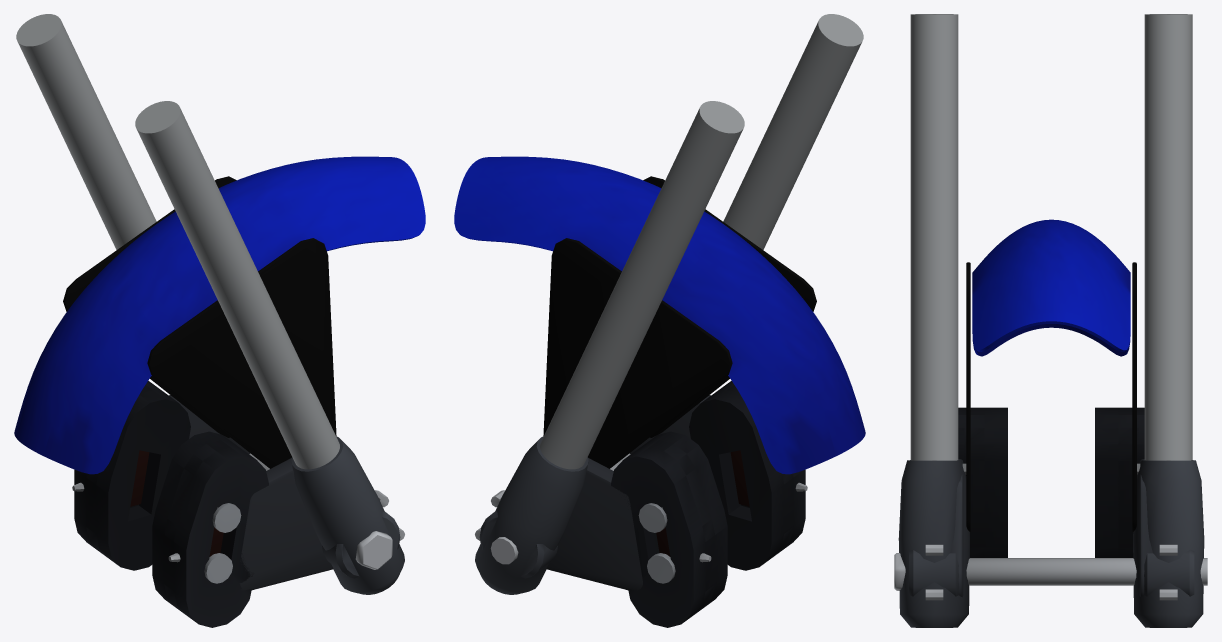
The model's file is bike_corsa600_fork.glb.
3 views of the same model, side by side, from view 1: azimuth 30°, elevation 25°; view 2: azimuth 150°, elevation 25°; view 3: azimuth 270°, elevation 25° (orthographic).
Parts seen in each view (by area): view 1: sbc_fender, sbc_forkS1, sbc_fenderstay1, sbc_forkS-1, sbc_caliper1_0.019, sbc_caliper-1_-0.019, sbc_forkfoot1, sbc_callug1, sbc_caliper1_-0.019, sbc_calbridge1, sbc_fenderstay-1, sbc_calpist1 (+5 smaller); view 2: sbc_fender, sbc_forkS-1, sbc_fenderstay-1, sbc_forkS1, sbc_caliper-1_0.019, sbc_caliper1_-0.019, sbc_forkfoot-1, sbc_callug-1, sbc_caliper-1_-0.019, sbc_calbridge-1, sbc_fenderstay1, sbc_calpist-1 (+5 smaller); view 3: sbc_forkS-1, sbc_forkS1, sbc_fender, sbc_forkfoot-1, sbc_forkfoot1, sbc_axleF, sbc_caliper-1_-0.019, sbc_caliper1_-0.019, sbc_calbridge1, sbc_calbridge-1, sbc_axleboss-1, sbc_axleboss1 (+6 smaller).
Part boxes in pixels (bbox=[...]): sbc_fender: bbox=[14, 156, 425, 474]; sbc_forkS1: bbox=[135, 101, 339, 469]; sbc_fenderstay1: bbox=[147, 238, 336, 468]; sbc_forkS-1: bbox=[16, 14, 156, 249]; sbc_caliper1_0.019: bbox=[174, 447, 268, 627]; sbc_caliper-1_-0.019: bbox=[96, 390, 190, 570]; sbc_forkfoot1: bbox=[291, 436, 404, 594]; sbc_callug1: bbox=[239, 458, 333, 590]; sbc_caliper1_-0.019: bbox=[152, 431, 233, 607]; sbc_calbridge1: bbox=[164, 440, 243, 614]; sbc_fenderstay-1: bbox=[63, 176, 236, 437]; sbc_calpist1: bbox=[204, 503, 241, 583]; sbc_fender: bbox=[454, 156, 865, 474]; sbc_forkS-1: bbox=[540, 101, 744, 469]; sbc_fenderstay-1: bbox=[543, 238, 732, 468]; sbc_forkS1: bbox=[723, 14, 863, 249]; sbc_caliper-1_0.019: bbox=[611, 447, 705, 627]; sbc_caliper1_-0.019: bbox=[689, 390, 784, 570]; sbc_forkfoot-1: bbox=[475, 436, 588, 594]; sbc_callug-1: bbox=[546, 458, 642, 590]; sbc_caliper-1_-0.019: bbox=[646, 431, 727, 607]; sbc_calbridge-1: bbox=[636, 440, 715, 614]; sbc_fenderstay1: bbox=[643, 176, 816, 437]; sbc_calpist-1: bbox=[638, 503, 675, 583]; sbc_forkS-1: bbox=[1144, 14, 1192, 460]; sbc_forkS1: bbox=[910, 14, 958, 460]; sbc_fender: bbox=[972, 219, 1130, 356]; sbc_forkfoot-1: bbox=[1133, 460, 1204, 627]; sbc_forkfoot1: bbox=[898, 460, 969, 627]; sbc_axleF: bbox=[966, 558, 1207, 585]; sbc_caliper-1_-0.019: bbox=[1095, 407, 1119, 557]; sbc_caliper1_-0.019: bbox=[983, 407, 1007, 557]; sbc_calbridge1: bbox=[964, 407, 984, 557]; sbc_calbridge-1: bbox=[1118, 407, 1138, 557]; sbc_axleboss-1: bbox=[1144, 550, 1194, 596]; sbc_axleboss1: bbox=[909, 550, 958, 596].
Bounding box in the file's own units: 0.3888 × 0.5228 × 0.281.
